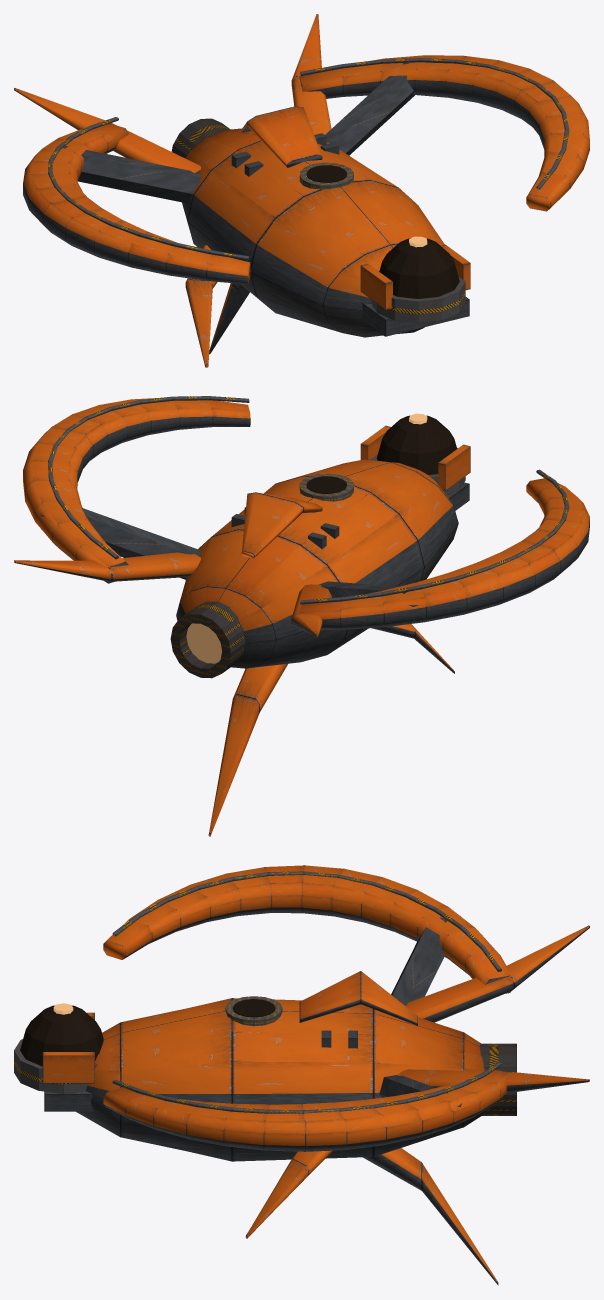
File: pioneer-saturn-l08-shield.glb
The picture shows the model from 3 angles, top to bottom: view 1: azimuth 30°, elevation 25°; view 2: azimuth 150°, elevation 25°; view 3: azimuth 270°, elevation 25°; orthographic projection. The views are drawn at different scales.
Visible parts, largest first — view 1: Drone; view 2: Drone; view 3: Drone.
Boxes of the visible parts, left/top/right/bottom form: Drone: left=14, top=14, right=589, bottom=367; Drone: left=14, top=396, right=589, bottom=836; Drone: left=14, top=865, right=589, bottom=1285.
Bounding box in the file's own units: 1.63 × 0.8781 × 1.51.
3 materials, 3 textured.
